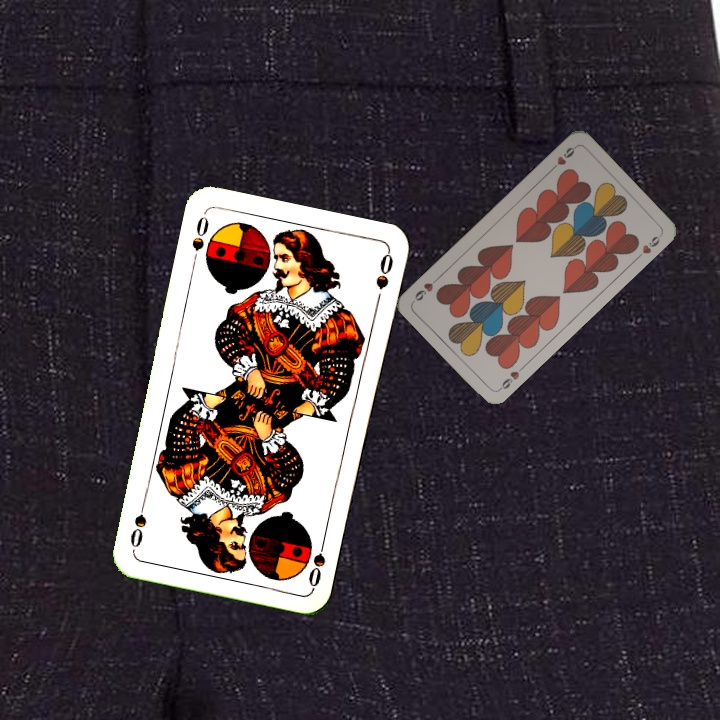H9: (546, 142, 579, 174), (495, 362, 527, 393)
SO: (304, 531, 329, 590), (187, 209, 212, 268)
